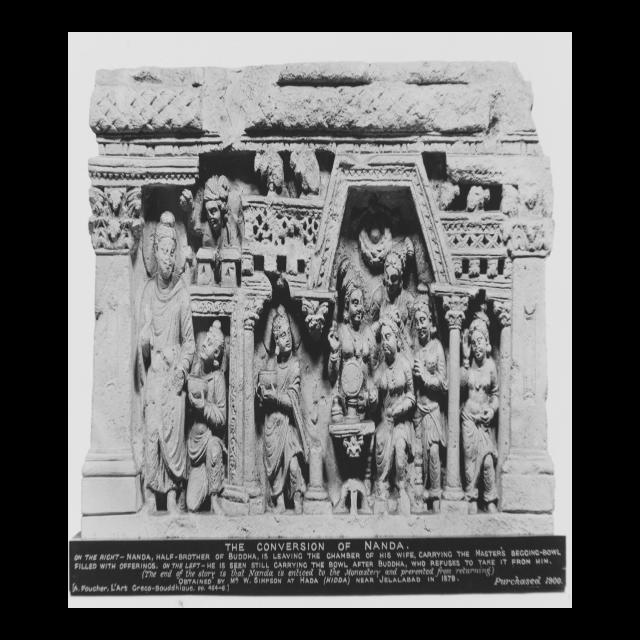buddha-sitting: (328, 260, 378, 458)
buddha-standing: (138, 211, 195, 511)
